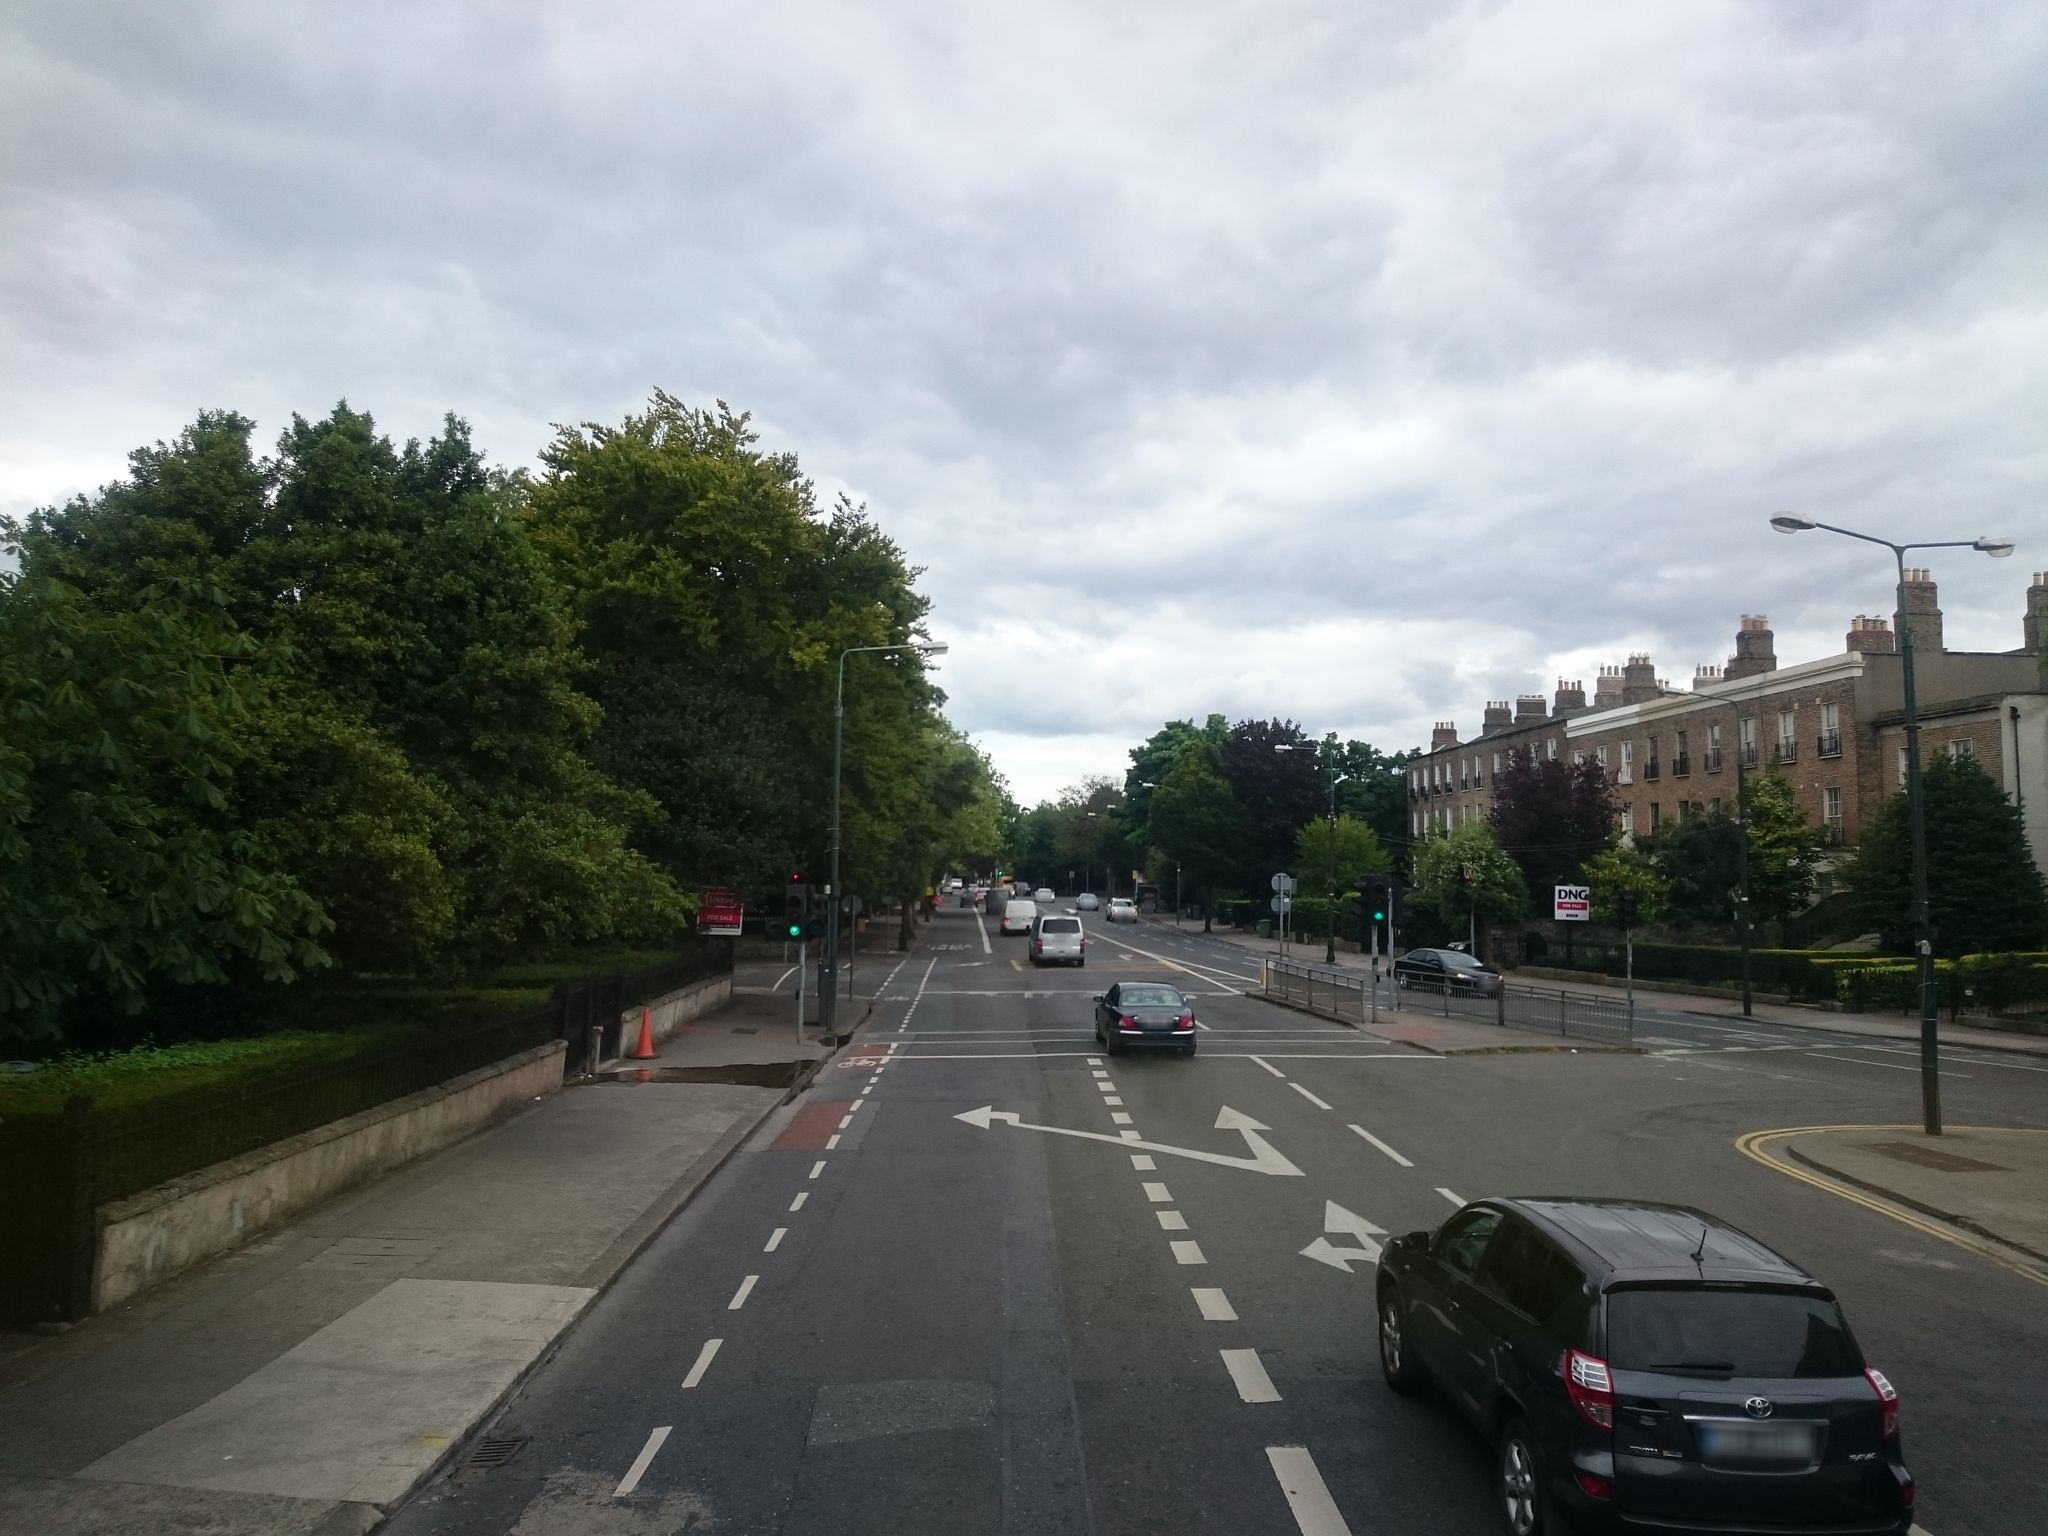property sign: (689, 870, 748, 944), (1543, 878, 1596, 928)
